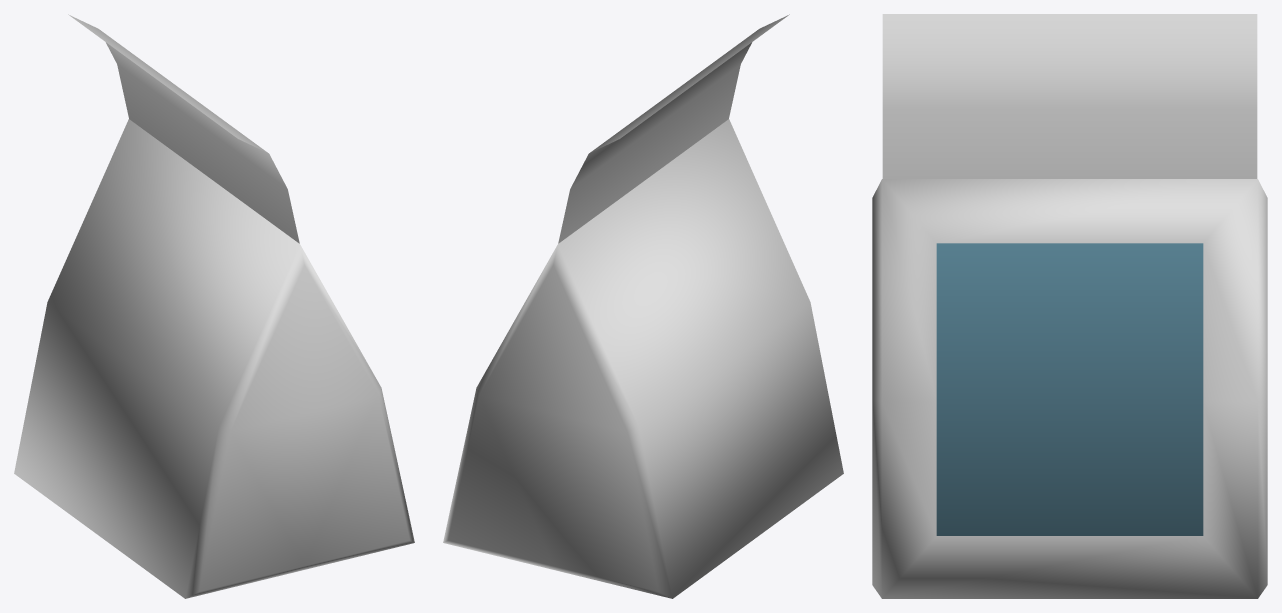
Rendered from seed.glb.
3 views of the same model, side by side, from view 1: azimuth 30°, elevation 25°; view 2: azimuth 150°, elevation 25°; view 3: azimuth 270°, elevation 25° (orthographic). The views are drawn at different scales.
Parts seen in each view (by area): view 1: Cube.009; view 2: Cube.009; view 3: Cube.009.
Part boxes in pixels (box(x1,y1,x2,y2)): Cube.009: box(14, 14, 414, 598); Cube.009: box(443, 14, 843, 598); Cube.009: box(872, 14, 1267, 598).
Bounding box in the file's own units: 0.2942 × 0.5471 × 0.4.
